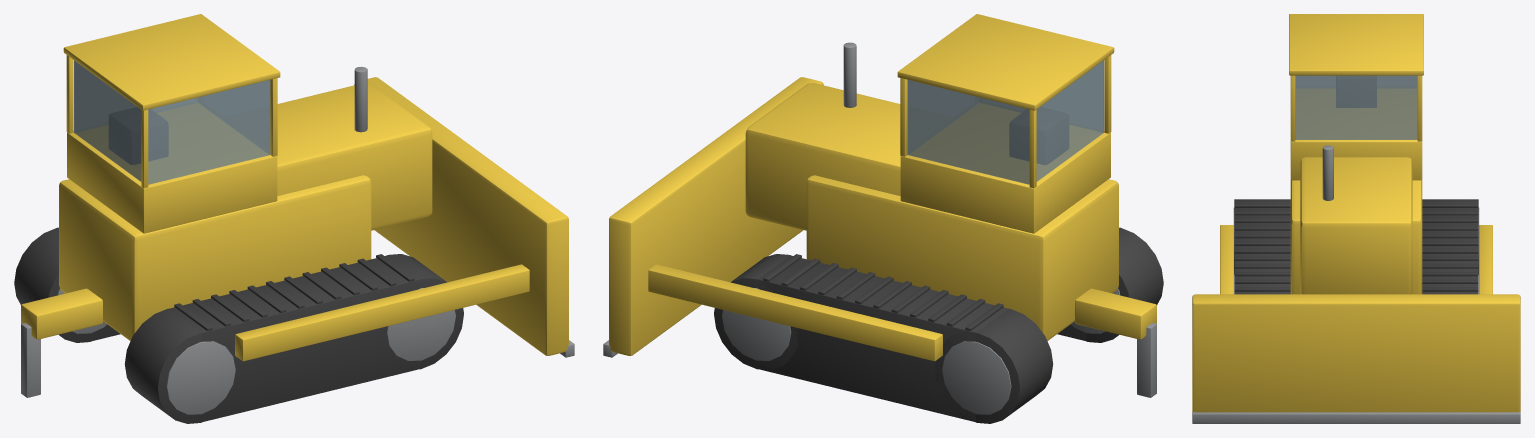
File: EQP-TER-005_lod1.glb
3 renders of one model, left to right at view 1: azimuth 30°, elevation 25°; view 2: azimuth 150°, elevation 25°; view 3: azimuth 270°, elevation 25°, orthographic. The views are drawn at different scales.
Parts seen in each view (by area): view 1: EQP-TER-005_corpo, EQP-TER-005_lamina, EQP-TER-005_cab_base, EQP-TER-005_esteira-1_corpo, EQP-TER-005_capo, EQP-TER-005_cab_teto, EQP-TER-005_cab_vidro_e, EQP-TER-005_braco-1, EQP-TER-005_cab_vidro_t, EQP-TER-005_esteira-1_ponta0, EQP-TER-005_esteira-1_roda0, EQP-TER-005_escarificador (+9 smaller); view 2: EQP-TER-005_corpo, EQP-TER-005_lamina, EQP-TER-005_cab_base, EQP-TER-005_capo, EQP-TER-005_esteira1_corpo, EQP-TER-005_cab_teto, EQP-TER-005_cab_vidro_d, EQP-TER-005_braco1, EQP-TER-005_esteira1_ponta0, EQP-TER-005_cab_vidro_t, EQP-TER-005_esteira1_roda0, EQP-TER-005_escarificador (+9 smaller); view 3: EQP-TER-005_lamina, EQP-TER-005_capo, EQP-TER-005_cab_teto, EQP-TER-005_cab_base, EQP-TER-005_cab_vidro_f, EQP-TER-005_faca, EQP-TER-005_esteira1_corpo, EQP-TER-005_esteira-1_corpo, EQP-TER-005_corpo, EQP-TER-005_cab_banco, EQP-TER-005_braco1, EQP-TER-005_braco-1 (+3 smaller).
Part boxes in pixels (<box>): EQP-TER-005_corpo: <box>59,175,371,340</box>; EQP-TER-005_lamina: <box>354,77,568,355</box>; EQP-TER-005_cab_base: <box>67,103,277,233</box>; EQP-TER-005_esteira-1_corpo: <box>169,255,420,421</box>; EQP-TER-005_capo: <box>277,83,432,230</box>; EQP-TER-005_cab_teto: <box>63,14,280,110</box>; EQP-TER-005_cab_vidro_e: <box>148,80,270,184</box>; EQP-TER-005_braco-1: <box>235,264,529,361</box>; EQP-TER-005_cab_vidro_t: <box>74,60,141,181</box>; EQP-TER-005_esteira-1_ponta0: <box>124,308,204,423</box>; EQP-TER-005_esteira-1_roda0: <box>166,341,235,414</box>; EQP-TER-005_escarificador: <box>21,288,102,339</box>; EQP-TER-005_corpo: <box>806,175,1118,340</box>; EQP-TER-005_lamina: <box>609,77,823,355</box>; EQP-TER-005_cab_base: <box>900,103,1110,233</box>; EQP-TER-005_capo: <box>745,83,900,230</box>; EQP-TER-005_esteira1_corpo: <box>757,255,1008,421</box>; EQP-TER-005_cab_teto: <box>897,14,1114,110</box>; EQP-TER-005_cab_vidro_d: <box>907,80,1029,184</box>; EQP-TER-005_braco1: <box>648,264,942,361</box>; EQP-TER-005_esteira1_ponta0: <box>935,308,1053,423</box>; EQP-TER-005_cab_vidro_t: <box>1036,60,1103,181</box>; EQP-TER-005_esteira1_roda0: <box>942,341,1011,414</box>; EQP-TER-005_escarificador: <box>1075,288,1156,339</box>; EQP-TER-005_lamina: <box>1192,294,1520,412</box>; EQP-TER-005_capo: <box>1300,157,1412,294</box>; EQP-TER-005_cab_teto: <box>1289,14,1423,75</box>; EQP-TER-005_cab_base: <box>1290,89,1422,180</box>; EQP-TER-005_cab_vidro_f: <box>1295,75,1417,139</box>; EQP-TER-005_faca: <box>1192,411,1520,423</box>; EQP-TER-005_esteira1_corpo: <box>1422,203,1478,293</box>; EQP-TER-005_esteira-1_corpo: <box>1234,203,1290,293</box>; EQP-TER-005_corpo: <box>1290,179,1422,294</box>; EQP-TER-005_cab_banco: <box>1336,76,1376,107</box>; EQP-TER-005_braco1: <box>1479,225,1492,294</box>; EQP-TER-005_braco-1: <box>1220,225,1233,294</box>.
Size of the model in its own units: 4.75 by 3 by 3.5.
